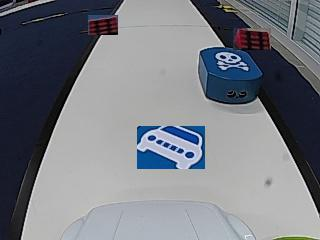danger: (215, 51, 247, 71)
